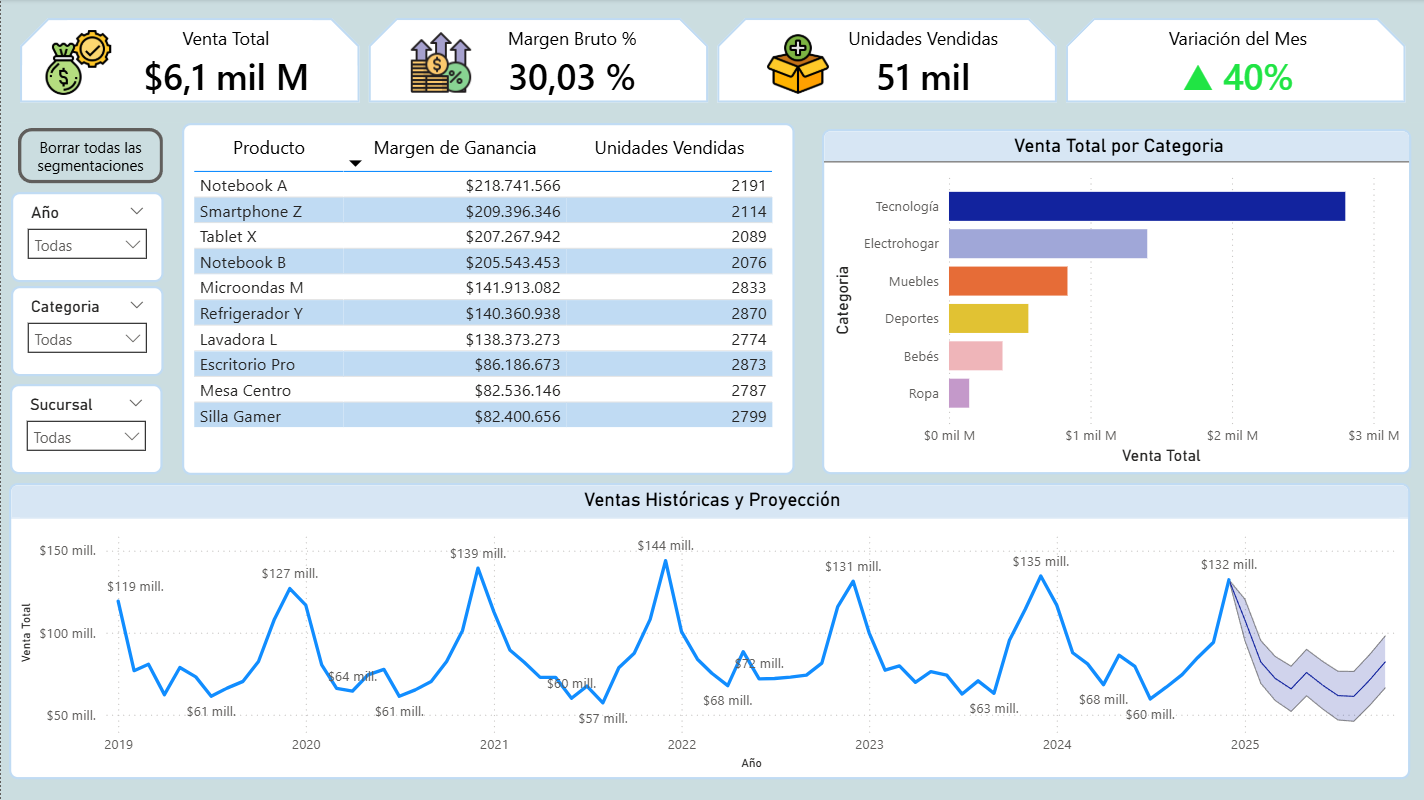

This screenshot's page, from the dashboard's own definition file:
{"tool":"powerbi","page":{"name":"Ventas","canvas":[1280,720],"ordinal":0},"visuals":[{"type":"slicer","fields":{"Values":["Calendario.Date.Variación.Jerarquía de fechas.Año"]},"box":[8.8,173.5,137.1,80.7],"z":0},{"type":"cardVisual","fields":{"Data":["Ventas.Ventas Totales","Ventas.Margen Bruto %","Sum(Ventas.Cantidad)","Ventas.Variación Mes %"]},"box":[0,0,1280,110.9],"z":1000},{"type":"slicer","fields":{"Values":["Ventas.Categoria"]},"box":[8.8,258.1,137.1,80.7],"z":2000},{"type":"slicer","fields":{"Values":["Ventas.Sucursal"]},"box":[7.9,345.6,137.1,80.7],"z":3000},{"type":"lineChart","title":"Ventas Históricas y Proyección","fields":{"Y":["Ventas.Ventas Totales"],"Category":["Calendario.Date.Variación.Jerarquía de fechas.Año","Calendario.Date.Variación.Jerarquía de fechas.Mes"]},"box":[7.5,434.2,1258.5,265.7],"z":4000},{"type":"actionButton","box":[15.7,116.1,130.3,49.6],"z":5000},{"type":"tableEx","fields":{"Values":["Ventas.Producto","Ventas.Margen Total","Sum(Ventas.Cantidad)"]},"box":[162.1,110.9,550.4,315.7],"z":6000},{"type":"barChart","fields":{"Category":["Ventas.Categoria"],"Y":["Ventas.Venta Total"]},"box":[737.1,116.3,529.1,310.4],"z":7000}]}

Visuals, with their boxes in screenshot pixels (x1, y1, x2, y2), scaled from the page's 1280x720 canvas onto the 1424x800 screenshot:
slicer - Calendario.Date.Variación.Jerarquía de fechas.Año: 10,193,162,282
cardVisual - Ventas.Ventas Totales x Ventas.Margen Bruto %: 0,0,1423,123
slicer - Ventas.Categoria: 10,287,162,376
slicer - Ventas.Sucursal: 9,384,161,474
"Ventas Históricas y Proyección" lineChart: 8,482,1408,778
actionButton: 17,129,162,184
tableEx - Ventas.Producto x Ventas.Margen Total: 180,123,793,474
barChart - Ventas.Categoria x Ventas.Venta Total: 820,129,1409,474
